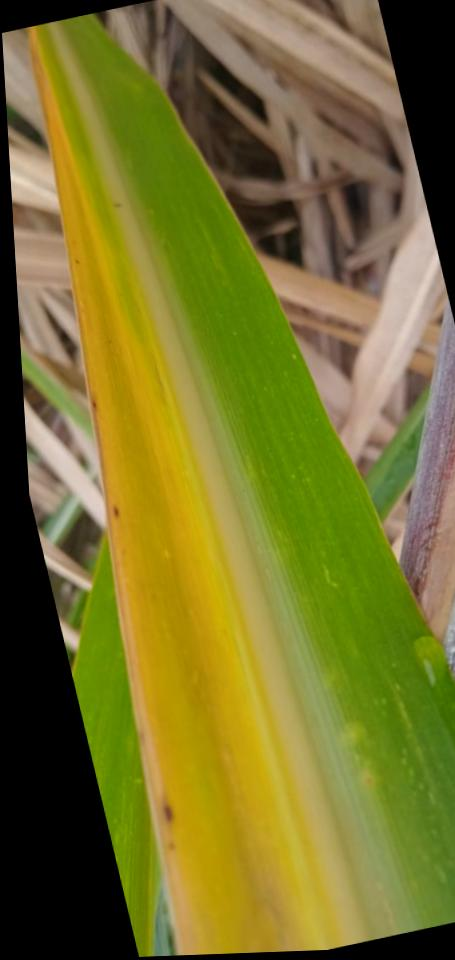Rust: (162, 804, 175, 823), (112, 505, 119, 518), (90, 399, 97, 408)
Yellow: (34, 23, 353, 955)
